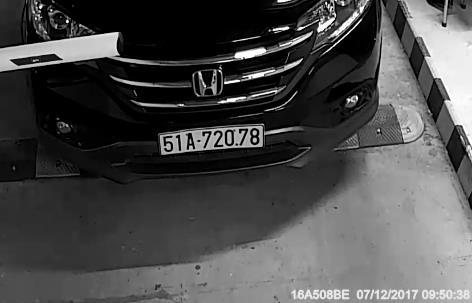License-plate: (146, 117, 270, 167)
